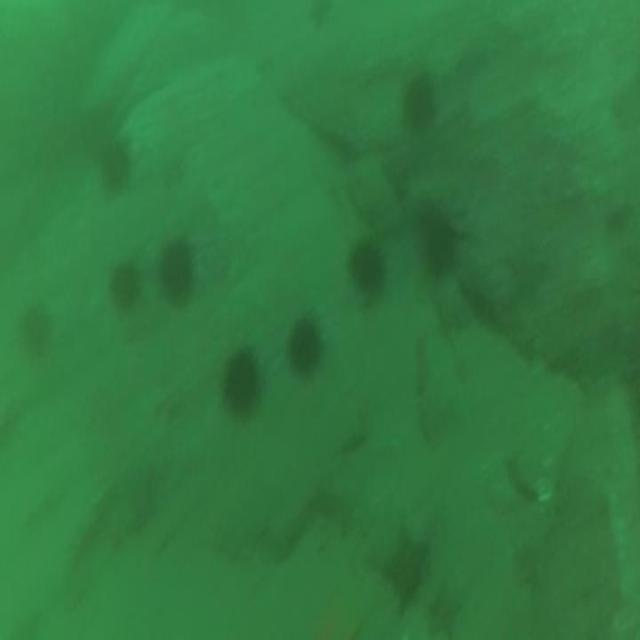echinus: (216, 337, 268, 425), (414, 194, 457, 278), (100, 243, 145, 320), (343, 232, 390, 304), (286, 306, 326, 386), (94, 128, 137, 201), (158, 234, 193, 303), (403, 68, 437, 131)
starfish: (382, 523, 435, 618), (427, 578, 464, 637)
